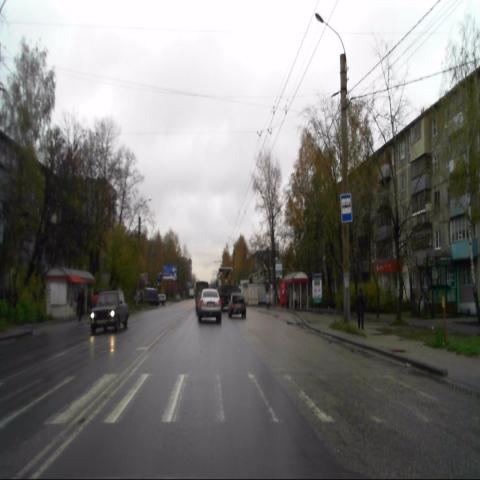5_16: (340, 193, 352, 223)
